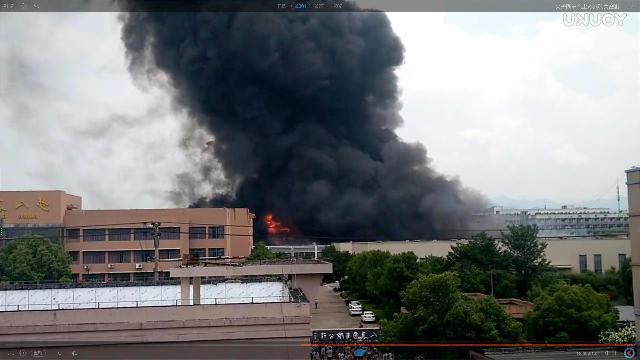fire: (266, 213, 282, 233)
